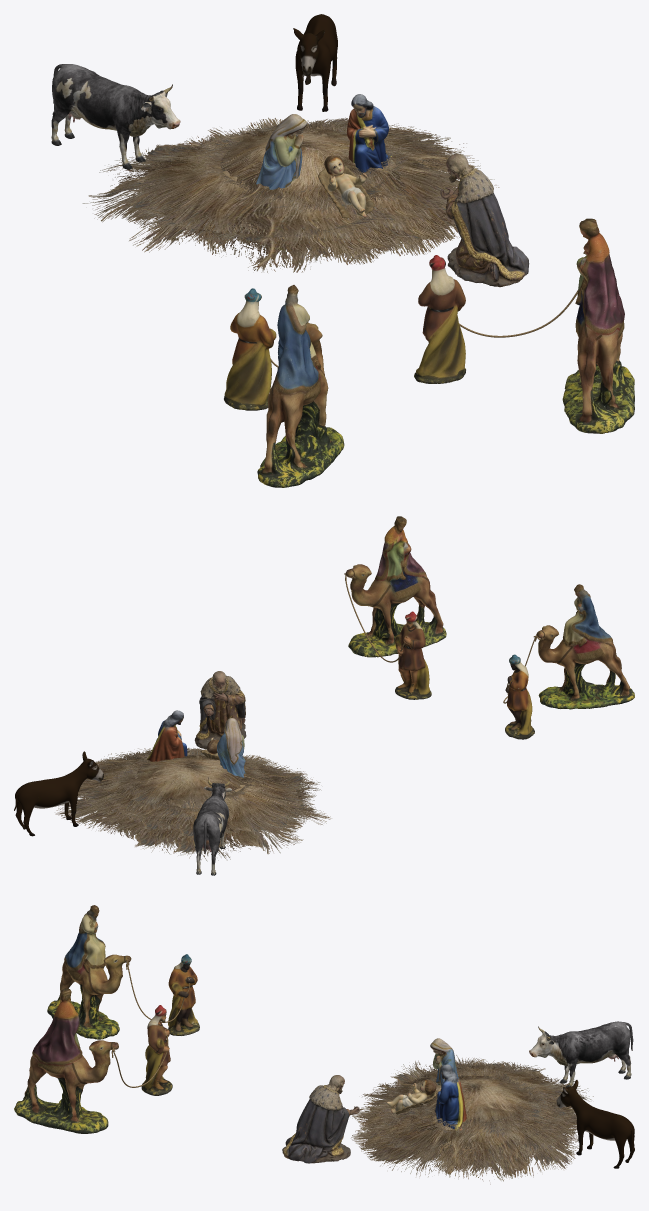
File: nativita.glb
The picture shows the model from 3 angles, top to bottom: view 1: azimuth 30°, elevation 25°; view 2: azimuth 150°, elevation 25°; view 3: azimuth 270°, elevation 25°; orthographic projection. The views are drawn at different scales.
Visible parts, largest first — view 1: Reis_Conj_3, Reisj_Conj_1, StrawLayer.005_5, StrawLayer.004_4, StrawLayer.007_7, Object_2, Line01, StrawLayer.001_1, Donkey_2, StrawLayer_0, SJose_LP2, SMaria_LP2 (+8 smaller); view 2: Reis_Conj_3, Reisj_Conj_1, StrawLayer.007_7, StrawLayer.005_5, StrawLayer.004_4, Donkey_2, Object_2, StrawLayer.001_1, StrawLayer_0, Line01, StrawLayer.002_2, SJose_LP2 (+4 smaller); view 3: Reis_Conj_3, Reisj_Conj_1, StrawLayer.001_1, StrawLayer_0, StrawLayer.007_7, Object_2, Line01, StrawLayer.002_2, StrawLayer.005_5, Donkey_2, StrawLayer.004_4, SJose_LP2 (+5 smaller).
Part boxes in pixels (<box>): Reis_Conj_3: <box>414,218,634,433</box>; Reisj_Conj_1: <box>224,285,344,487</box>; StrawLayer.005_5: <box>115,136,398,248</box>; StrawLayer.004_4: <box>82,131,424,272</box>; StrawLayer.007_7: <box>198,121,402,210</box>; Object_2: <box>440,153,529,287</box>; Line01: <box>51,64,180,169</box>; StrawLayer.001_1: <box>212,118,458,237</box>; Donkey_2: <box>293,14,337,111</box>; StrawLayer_0: <box>140,117,499,264</box>; SJose_LP2: <box>347,94,391,173</box>; SMaria_LP2: <box>256,114,307,189</box>; Reis_Conj_3: <box>344,516,446,699</box>; Reisj_Conj_1: <box>503,584,634,739</box>; StrawLayer.007_7: <box>117,753,268,810</box>; StrawLayer.005_5: <box>113,757,310,842</box>; StrawLayer.004_4: <box>95,755,331,861</box>; Donkey_2: <box>14,751,103,836</box>; Object_2: <box>194,671,246,749</box>; StrawLayer.001_1: <box>77,748,202,835</box>; StrawLayer_0: <box>55,748,263,854</box>; Line01: <box>193,777,232,875</box>; StrawLayer.002_2: <box>82,752,196,822</box>; SJose_LP2: <box>147,710,187,761</box>; Reis_Conj_3: <box>14,988,172,1133</box>; Reisj_Conj_1: <box>47,905,199,1039</box>; StrawLayer.001_1: <box>372,1107,571,1164</box>; StrawLayer_0: <box>351,1106,578,1184</box>; StrawLayer.007_7: <box>405,1072,546,1133</box>; Object_2: <box>282,1075,359,1163</box>; Line01: <box>529,1021,633,1087</box>; StrawLayer.002_2: <box>390,1089,556,1171</box>; StrawLayer.005_5: <box>372,1061,568,1132</box>; Donkey_2: <box>556,1080,634,1168</box>; StrawLayer.004_4: <box>352,1060,593,1155</box>; SJose_LP2: <box>435,1064,466,1130</box>.
Bounding box in the file's own units: 5.67 × 2 × 8.09.
Materials: 16 (15 with a texture image).
